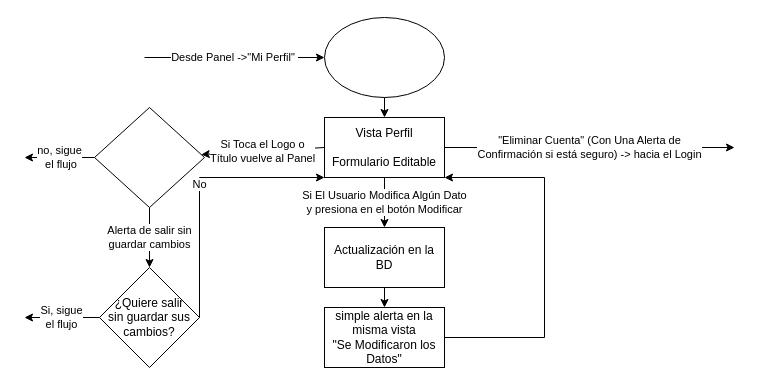
Some shapes in this 760 by 385 pixel diagram are drawn without their labels. Each missing label, with the centre of its shape:
"Inicio Perfil" belongs at point 384,57.
"¿Hay Datos modificados sin Guardar?" belongs at point 149,157.
